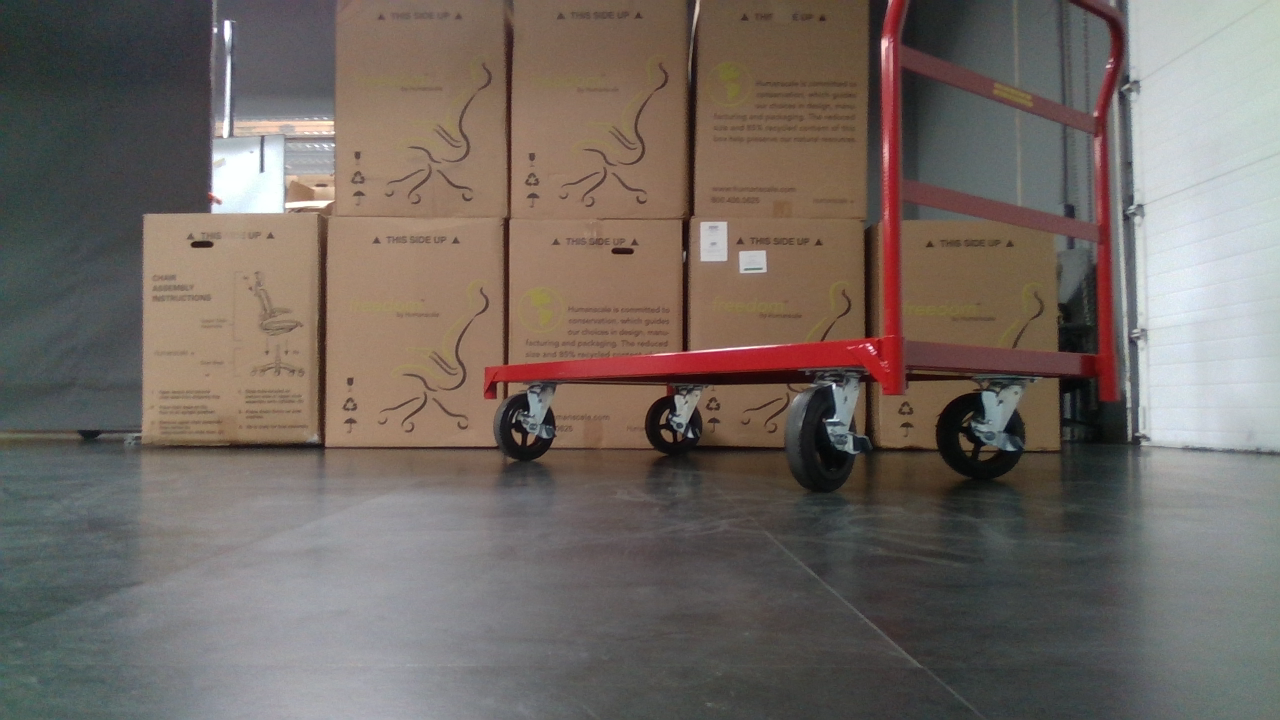Dolly: (480, 0, 1122, 493)
Wheel: (934, 389, 1026, 477), (781, 387, 857, 493), (495, 393, 556, 461), (642, 394, 708, 454)
